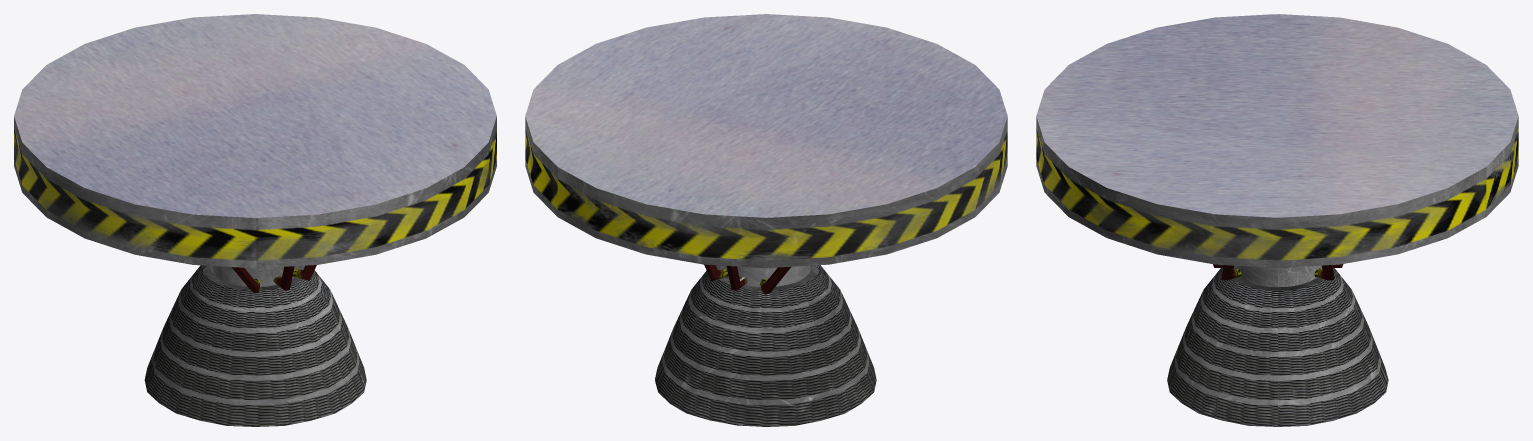
Rendered from liquidEngine3.DAE.
3 renders of one model, left to right at view 1: azimuth 30°, elevation 25°; view 2: azimuth 150°, elevation 25°; view 3: azimuth 270°, elevation 25°, orthographic.
Parts seen in each view (by area): view 1: obj_base, obj_gimbal-Pivot; view 2: obj_base, obj_gimbal-Pivot; view 3: obj_base, obj_gimbal-Pivot.
Boxes of the visible parts, bbox=[...] form: obj_base: bbox=[14, 14, 496, 268]; obj_gimbal-Pivot: bbox=[144, 265, 366, 426]; obj_base: bbox=[525, 14, 1007, 267]; obj_gimbal-Pivot: bbox=[655, 264, 876, 426]; obj_base: bbox=[1036, 14, 1518, 267]; obj_gimbal-Pivot: bbox=[1167, 264, 1388, 426].
Size of what is drawn, in the model's own units: 1 by 0.604 by 1.
